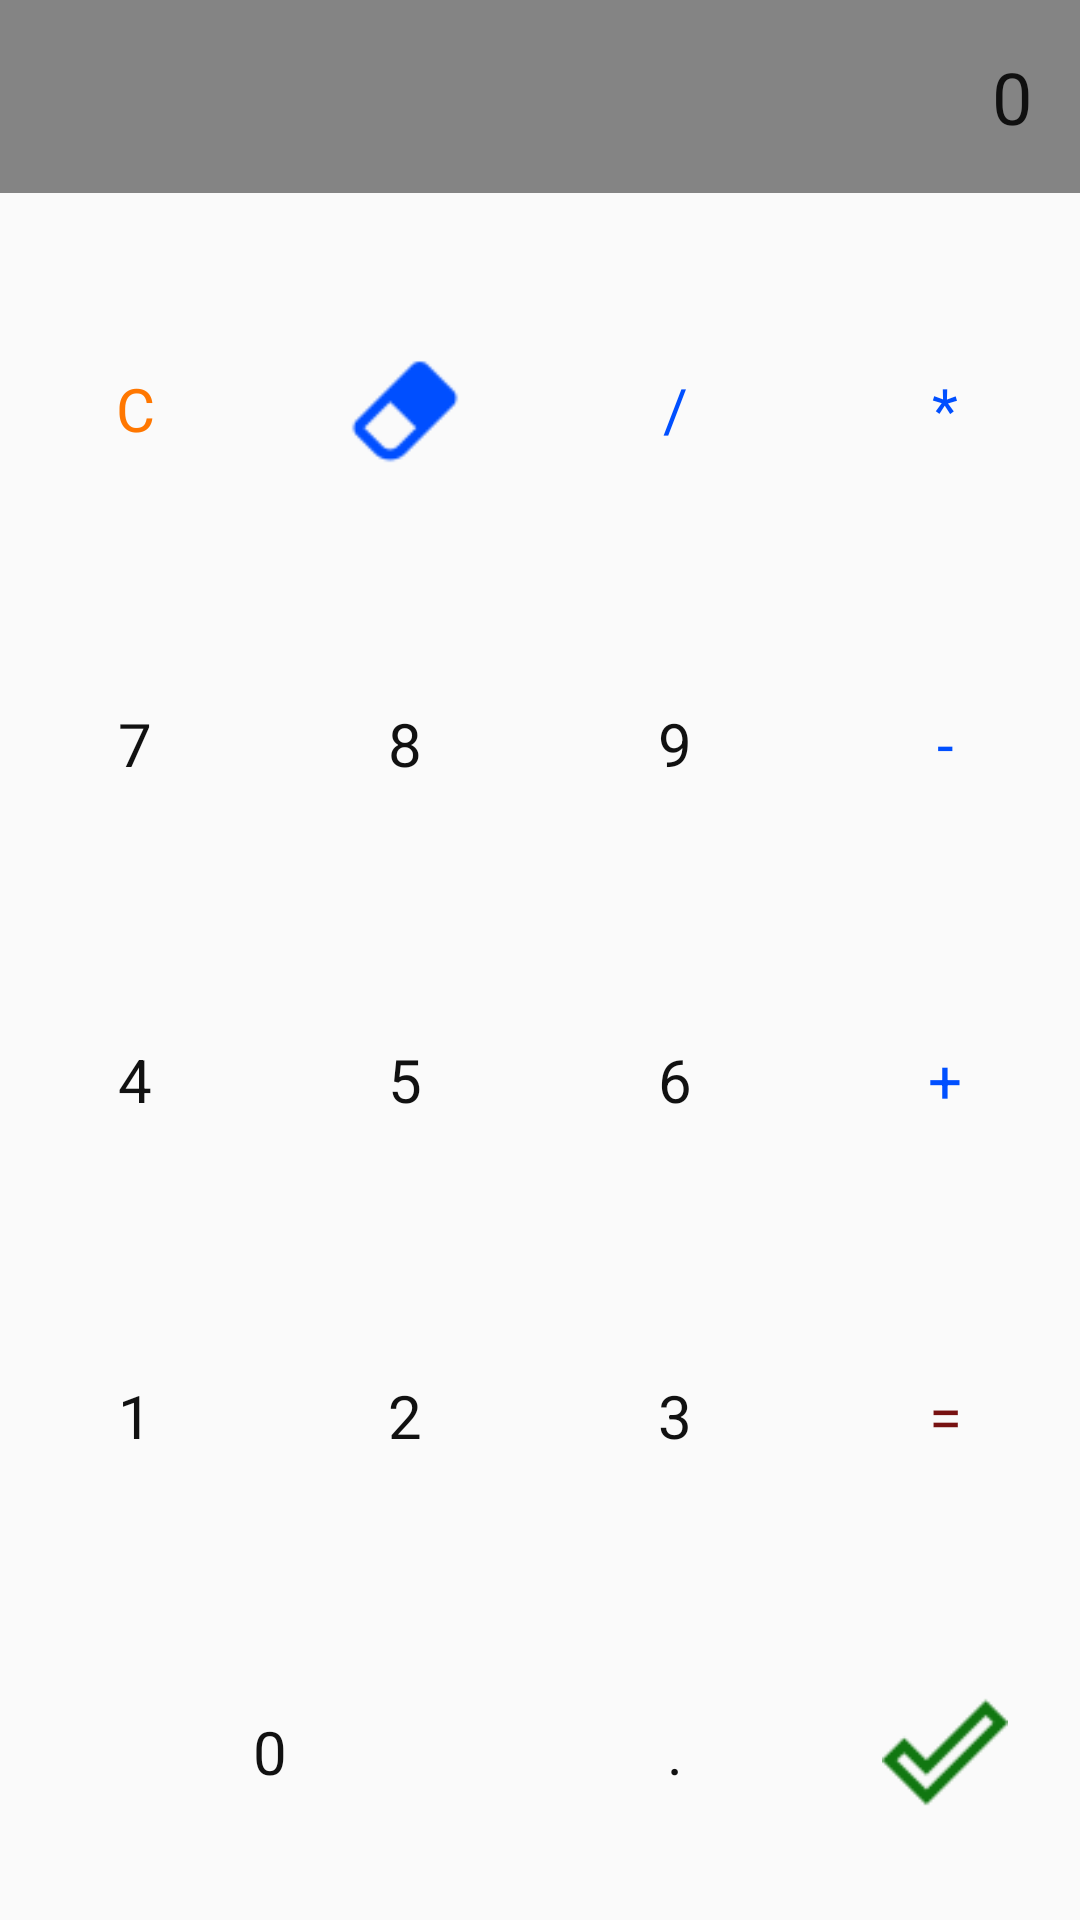

Named icons in this screenshot (1080*1920) and their bounding boxes, (x1=x1, y1=y1, x2=x2, y2=y2):
erase: (x1=352, y1=361, x2=458, y2=462)
